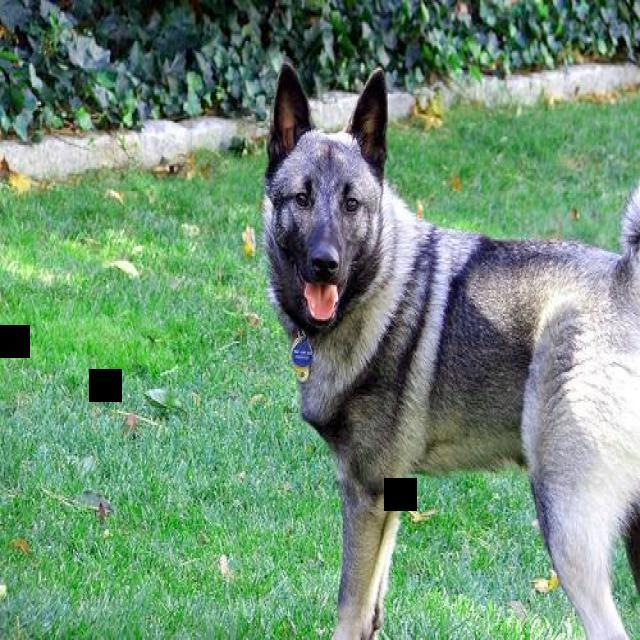adult_dog: (262, 65, 640, 640)
